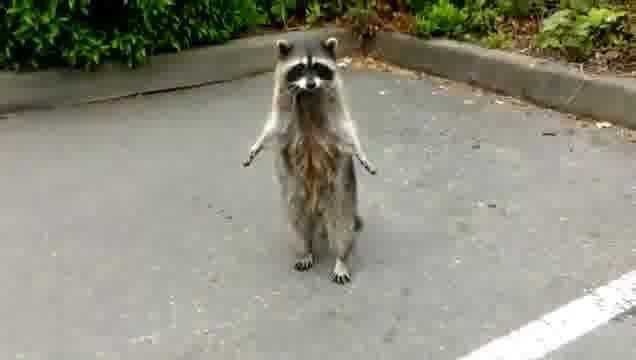raccoon: (241, 37, 378, 287)
